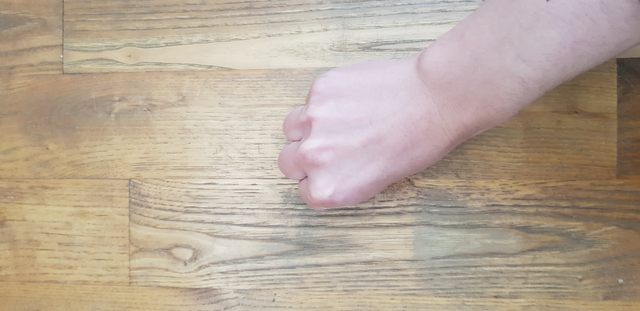Rock: (246, 50, 463, 222)
